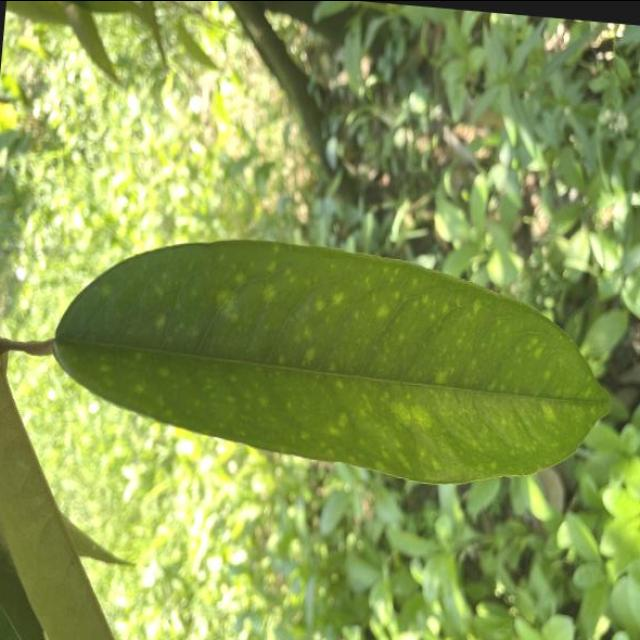Leaf Spot: (34, 215, 640, 509)
